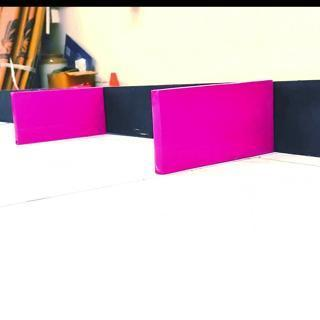xparking: (154, 89, 272, 171), (12, 90, 104, 146)
